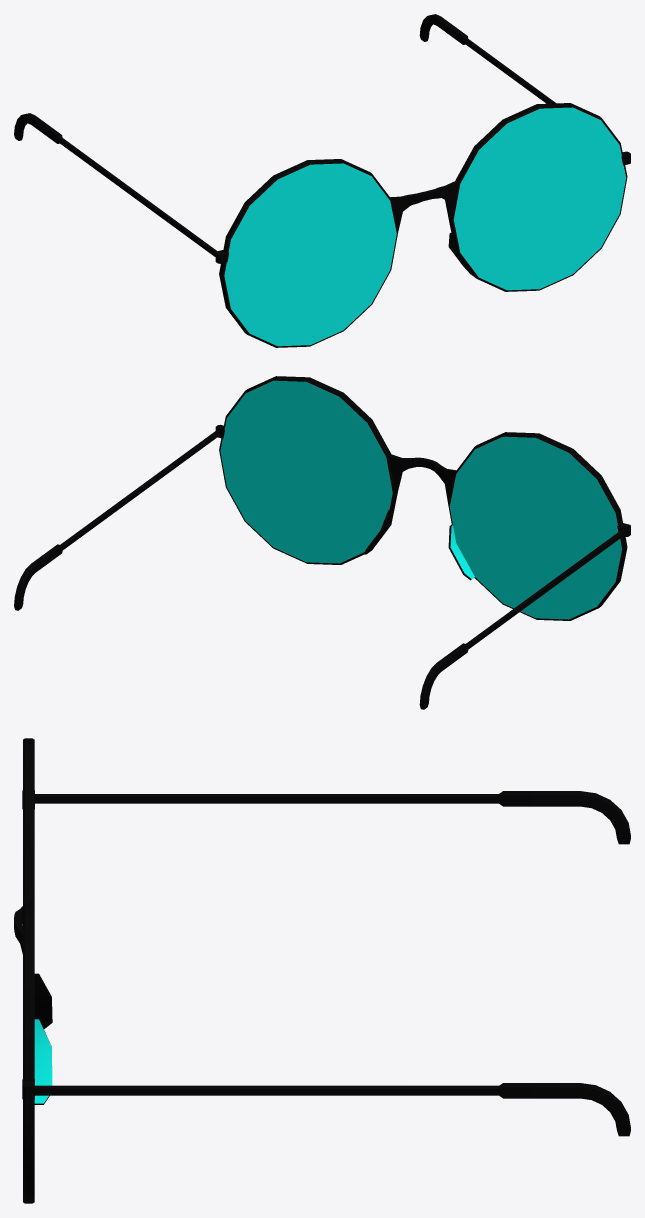
The model's file is Glasses_V1.fbx.
3 views of the same model, one above another, from view 1: azimuth 30°, elevation 25°; view 2: azimuth 150°, elevation 25°; view 3: azimuth 270°, elevation 25° (orthographic). The views are drawn at different scales.
Visible parts, largest first — view 1: Glasses_Visual; view 2: Glasses_Visual; view 3: Glasses_Visual.
Boxes of the visible parts, x1=… form: Glasses_Visual: x1=14, y1=14, x2=630, y2=347; Glasses_Visual: x1=14, y1=376, x2=630, y2=709; Glasses_Visual: x1=14, y1=738, x2=630, y2=1203.
Size of the model in its own units: 473 by 202 by 415.
